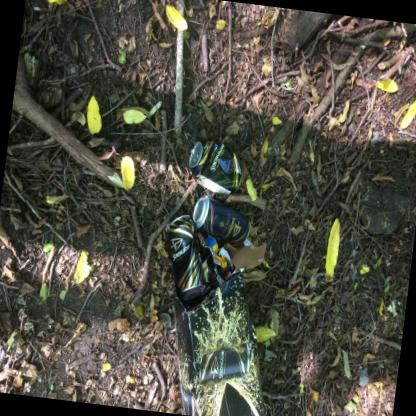Metal: (167, 214, 204, 300), (187, 139, 242, 194), (191, 195, 249, 243), (199, 257, 223, 301), (190, 147, 196, 159)
Paper: (172, 242, 265, 416)
Plastic: (194, 228, 225, 267), (213, 247, 232, 280)
